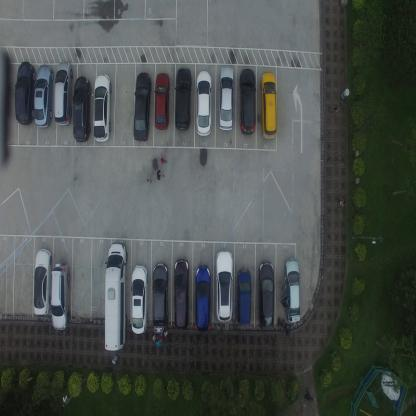car: (103, 241, 128, 352), (132, 71, 152, 142), (92, 72, 112, 143), (32, 248, 53, 315), (14, 60, 35, 126), (50, 262, 70, 331), (215, 249, 233, 324), (238, 69, 258, 136), (258, 72, 278, 139), (33, 63, 53, 129), (72, 76, 91, 144), (257, 261, 275, 332), (130, 264, 148, 335), (53, 60, 72, 126), (195, 70, 213, 137), (174, 66, 192, 132), (152, 261, 168, 335), (173, 258, 189, 330), (195, 264, 211, 333), (218, 66, 234, 133), (284, 256, 300, 323), (154, 71, 170, 131), (236, 268, 252, 326)
